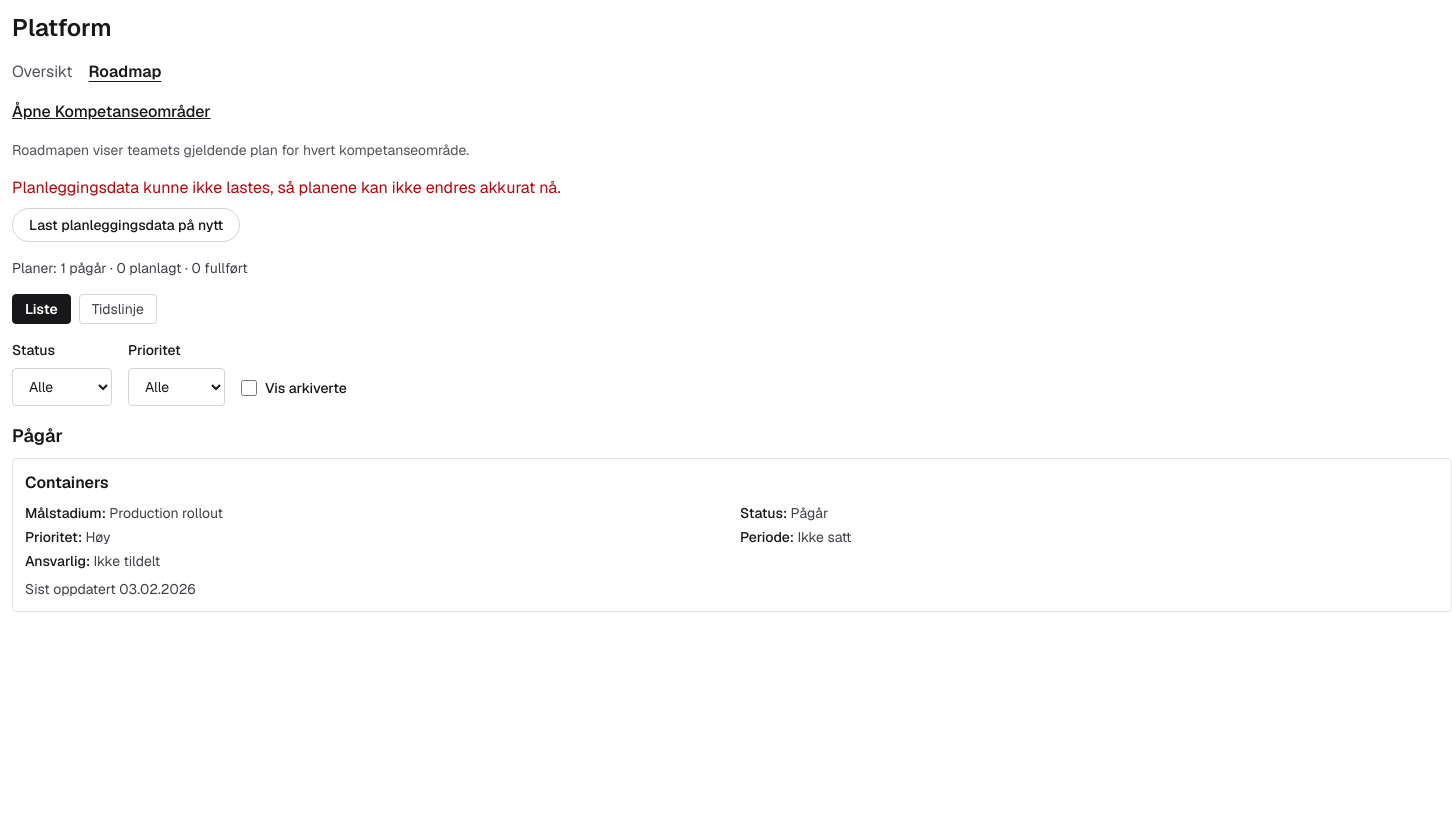
Test: RoadmapPage read shell › keeps plans and offers a skills-only retry when only the skills read fails
Check: the heading "Containers" is shown, box [25,472,109,493]
Check: the message shows "Planleggingsdata kunne ikke lastes", box [12,177,561,198]
Click the button "Last planleggingsdata på nytt" at (126, 225), box [12,208,240,242]
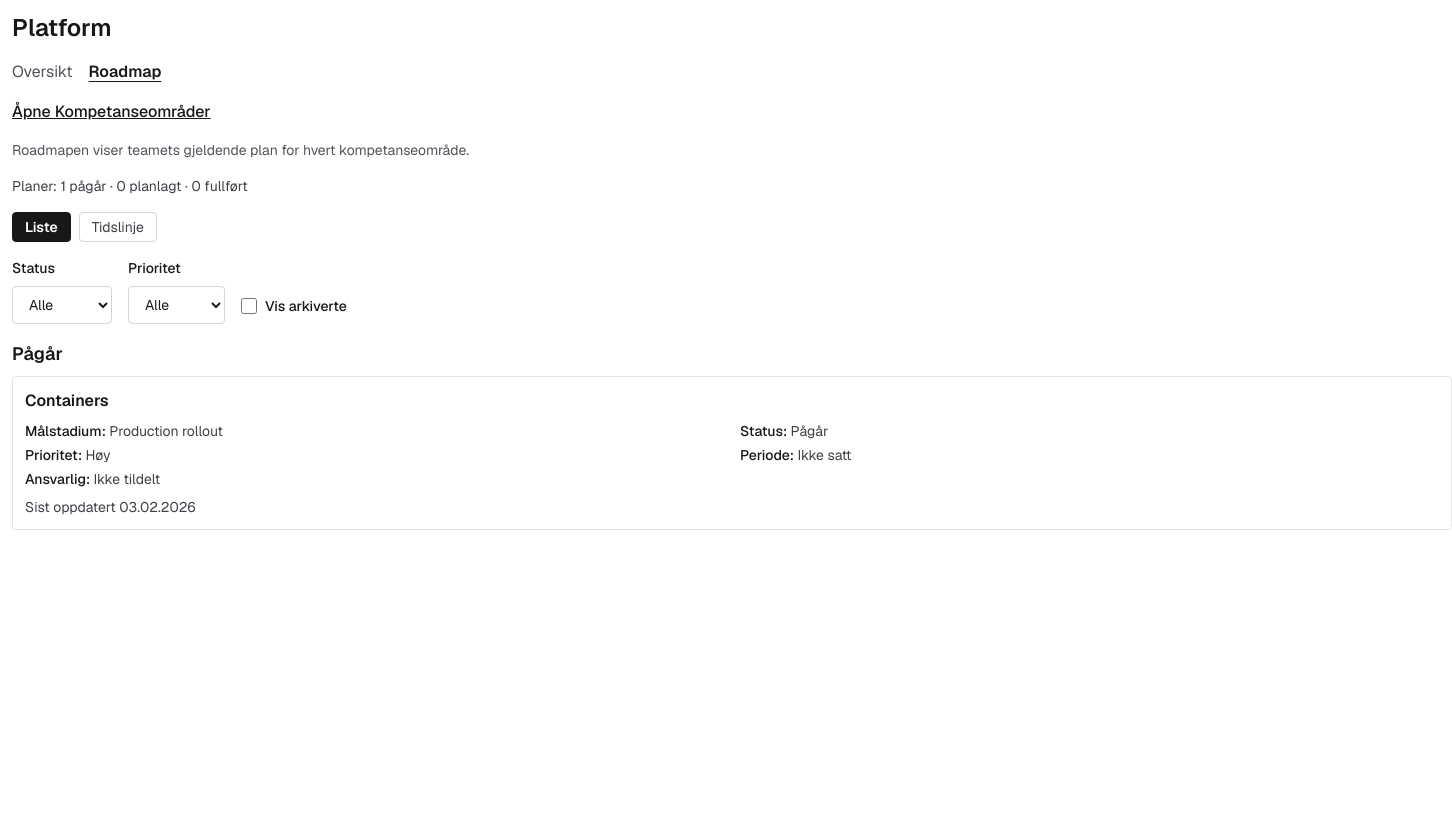
Check: the heading "Containers" is shown, box [25,390,109,411]
Check: the message "Planleggingsdata kunne ikke lastes, så planene kan ikke endres akkurat nå." is gone
